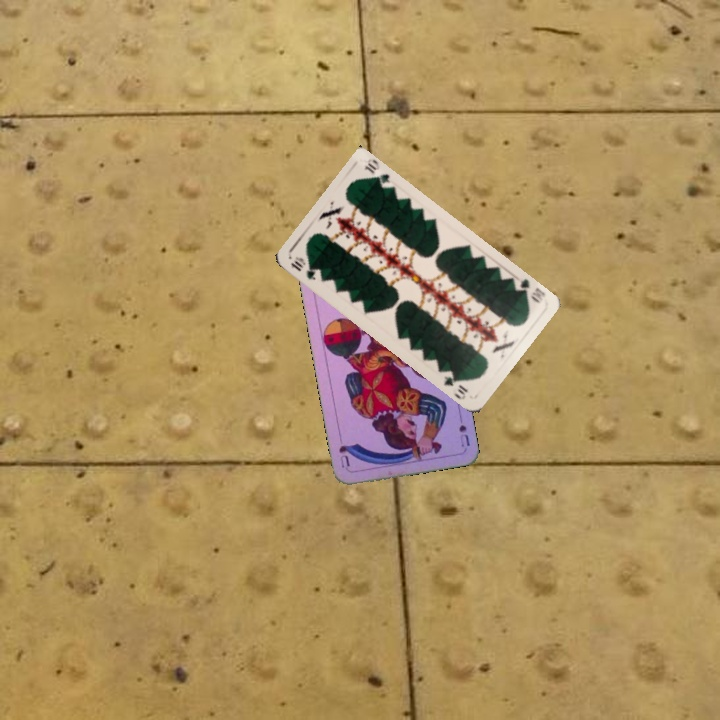G10: (513, 275, 548, 306), (286, 252, 320, 283)
SU: (455, 409, 472, 449)
